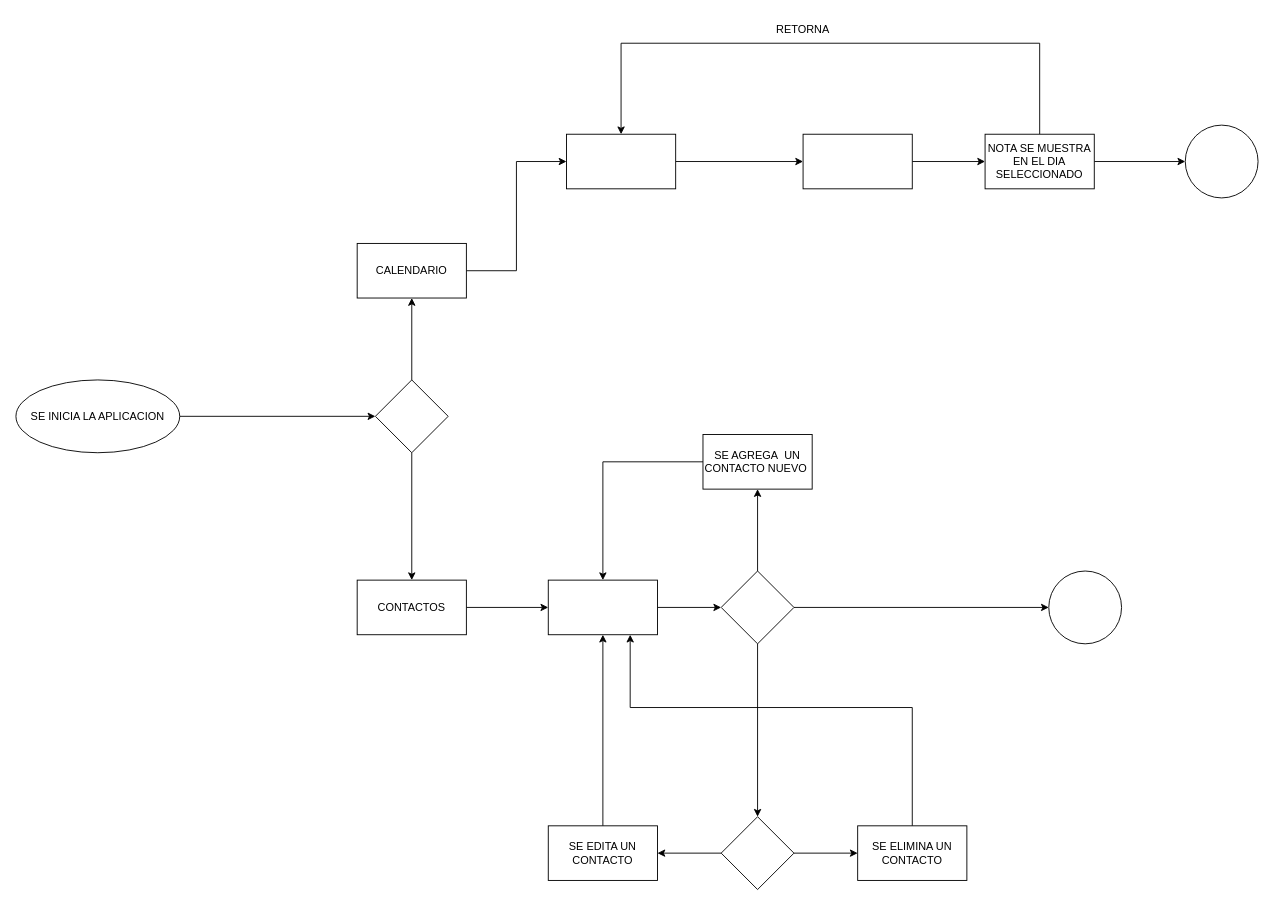
Image size: 1274x905. Some labels were removed from this diagram. Each missing label, with the centre of its shape:
AGREGA UNA NOTA: [857,161]
SE DESPLIEGA LISTA DE CONTACTOS EXISTENTES: [602,607]
SE MUESTRA CALENDARIO: [621,161]
